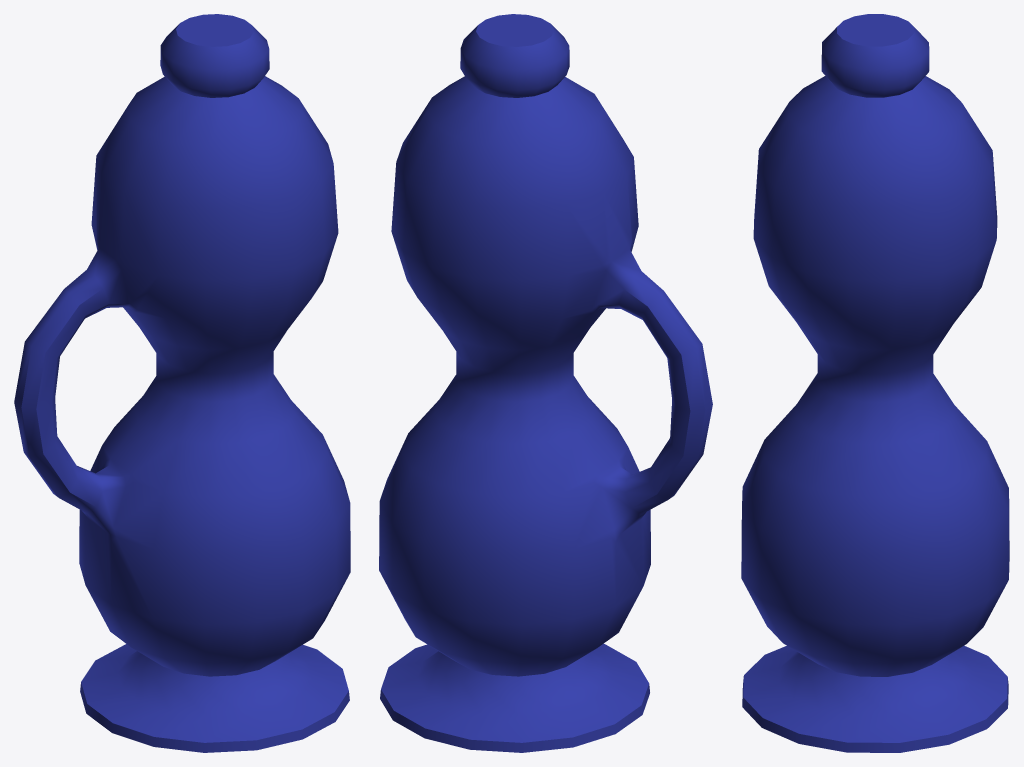
File: vaso3.fbx
3 renders of one model, left to right at view 1: azimuth 30°, elevation 25°; view 2: azimuth 150°, elevation 25°; view 3: azimuth 270°, elevation 25°, orthographic.
Visible parts, largest first — view 1: vaso_4; view 2: vaso_4; view 3: vaso_4.
Part boxes in pixels (box(x1,y1,x2,y2)): vaso_4: box(14, 14, 350, 752); vaso_4: box(379, 14, 712, 752); vaso_4: box(741, 14, 1009, 752).
Size of the model in its own units: 0.3714 by 0.7575 by 0.2764.
